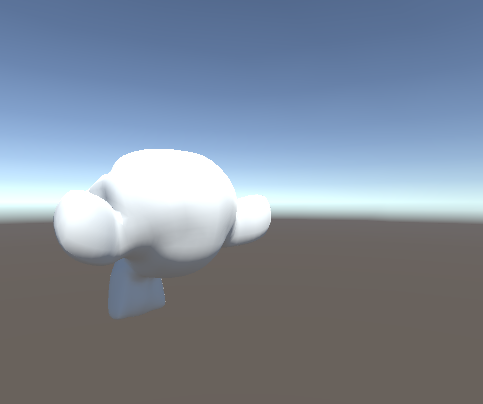monkey: (52, 146, 276, 321)
